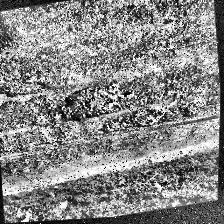pothole: (100, 98, 212, 138), (48, 80, 136, 126)
